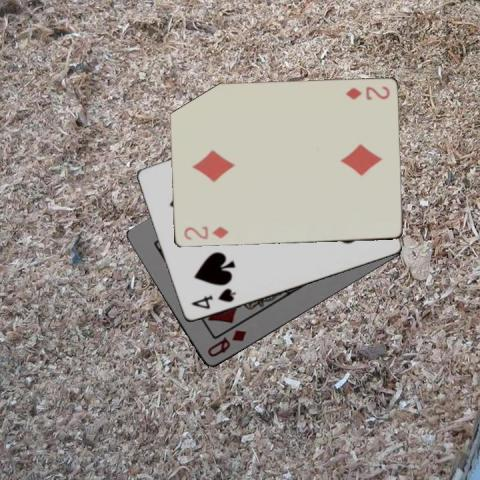2d: (181, 223, 229, 242), (342, 84, 390, 102)
4s: (188, 285, 237, 311)
Qd: (204, 319, 249, 359)
